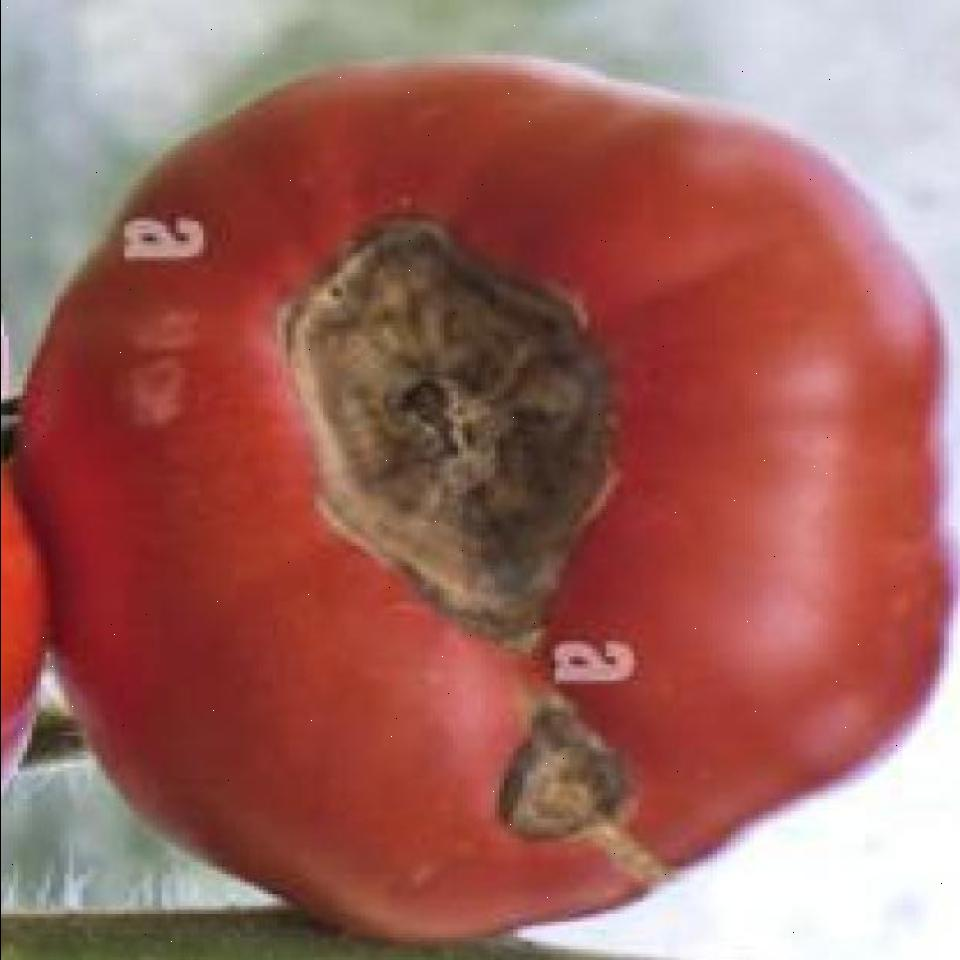Blossom_end_rot: (236, 186, 680, 674), (469, 704, 703, 860)
